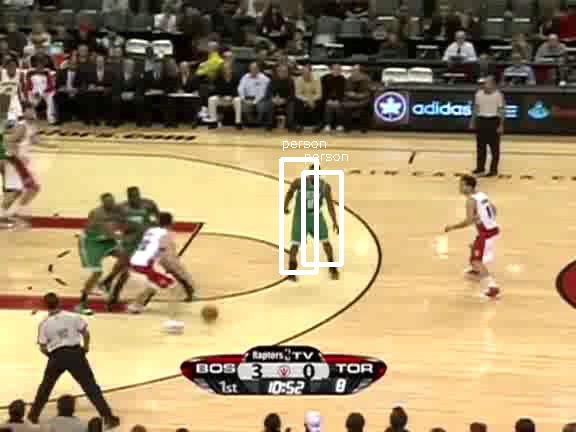person: (293, 171, 327, 252), (292, 171, 326, 252), (294, 171, 328, 252), (293, 170, 327, 251), (293, 172, 327, 253)
target_negative: (47, 38, 495, 341), (87, 203, 556, 381), (131, 96, 433, 299), (132, 96, 239, 169), (51, 341, 152, 366), (537, 306, 556, 336)
